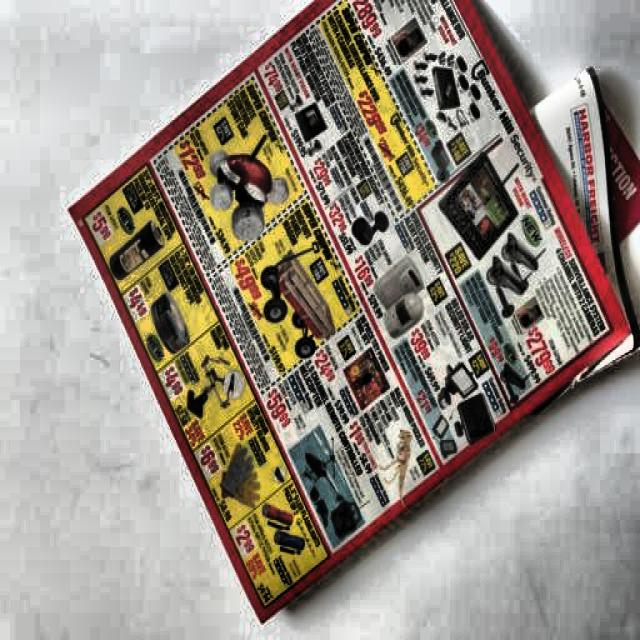paper: (74, 3, 620, 506)
